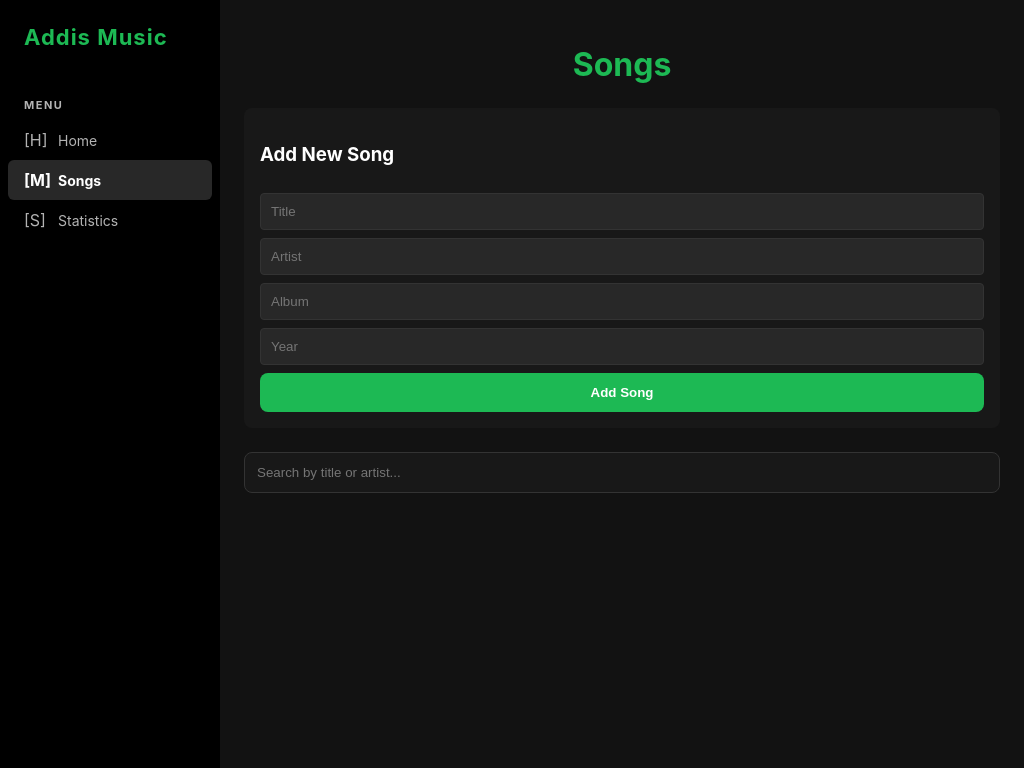
Scenario: App component › navigates to Home page when Home nav item is clicked
The image size is (1024, 768).
Step 1. Click the text "Home" → (61, 140), box [24,130,97,150]
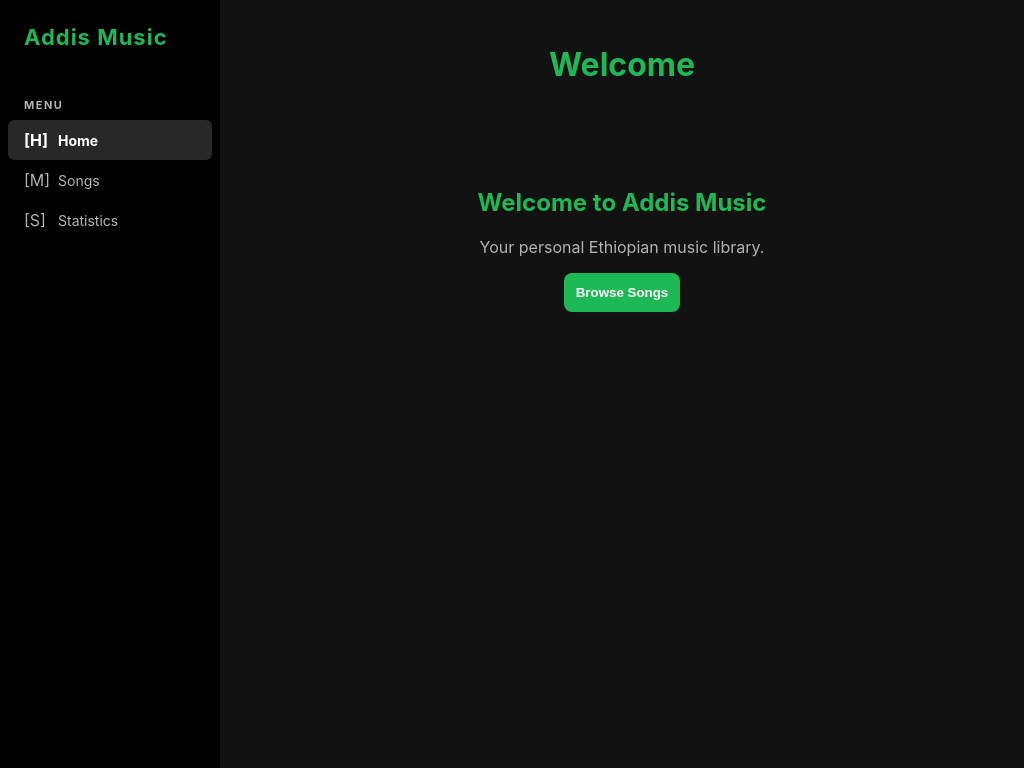
Expected: the heading "Welcome to Addis Music" is shown, [478,188,766,217]
